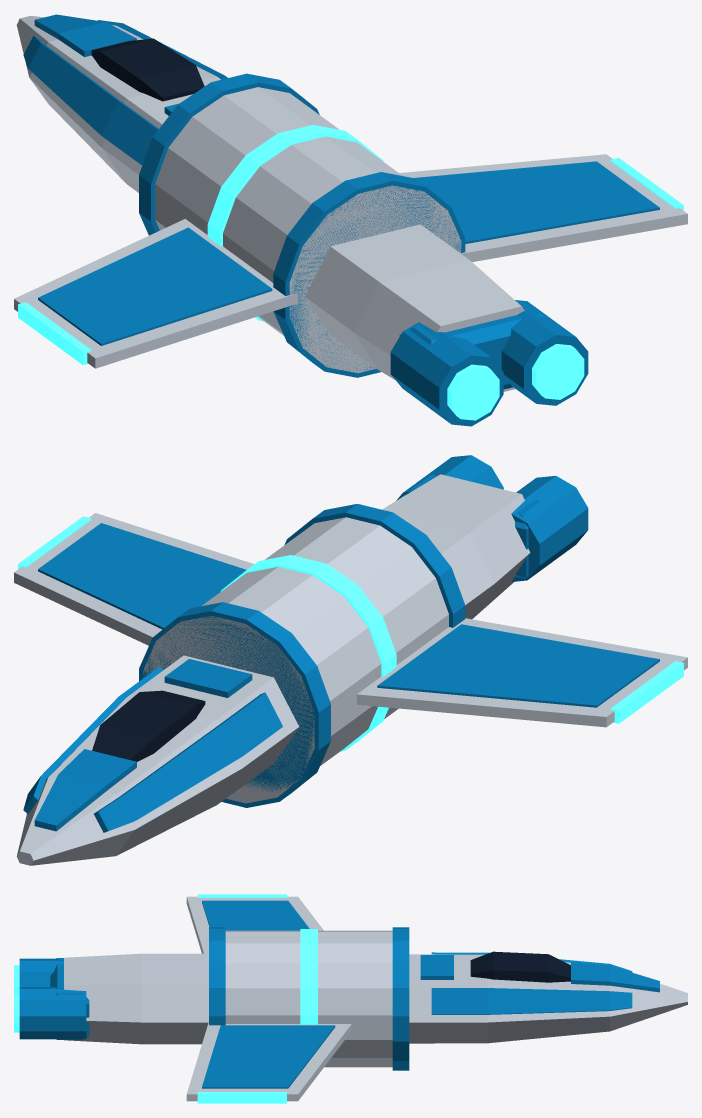
The model's file is hope_carrier.glb.
The picture shows the model from 3 angles, top to bottom: view 1: azimuth 30°, elevation 25°; view 2: azimuth 150°, elevation 25°; view 3: azimuth 270°, elevation 25°; orthographic projection. The views are drawn at different scales.
Parts seen in each view (by area): view 1: hope_carrier; view 2: hope_carrier; view 3: hope_carrier.
Part boxes in pixels (bbox=[...]): hope_carrier: bbox=[14, 14, 687, 426]; hope_carrier: bbox=[14, 455, 687, 865]; hope_carrier: bbox=[14, 894, 687, 1103].
Bounding box in the file's own units: 0.9858 × 0.295 × 1.4.
